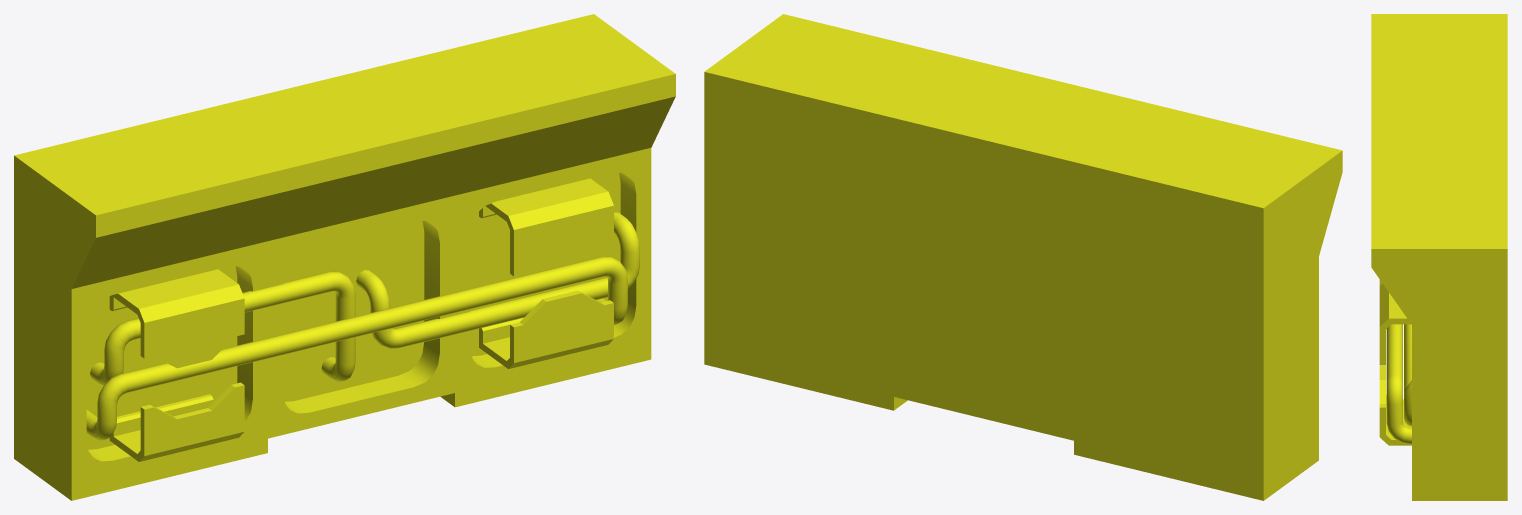
The model's file is Wall_ExHeight.FBX.
3 renders of one model, left to right at view 1: azimuth 30°, elevation 25°; view 2: azimuth 150°, elevation 25°; view 3: azimuth 270°, elevation 25°, orthographic. The views are drawn at different scales.
Visible parts, largest first — view 1: Wall_ExHeight; view 2: Wall_ExHeight; view 3: Wall_ExHeight.
Part boxes in pixels (x1,y1,x2,y2): Wall_ExHeight: (14, 14, 675, 500); Wall_ExHeight: (704, 14, 1342, 500); Wall_ExHeight: (1371, 14, 1507, 500).
Size of the model in its own units: 400 by 200 by 97.84.
